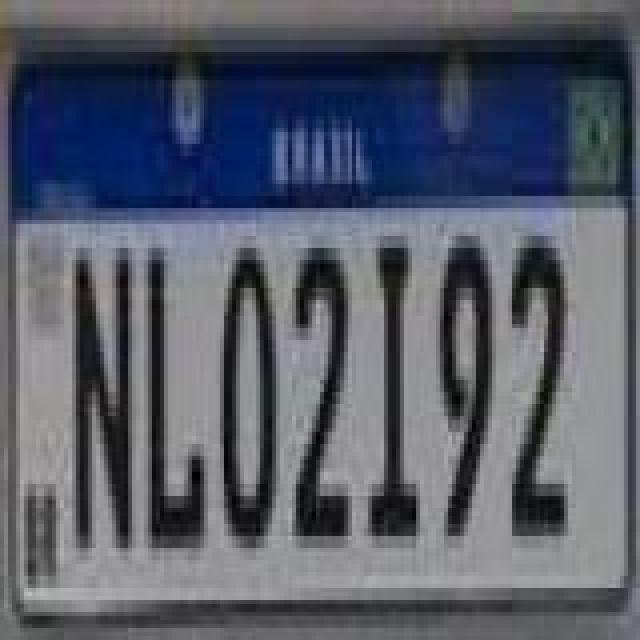2: (508, 226, 572, 542), (290, 242, 350, 542)
9: (434, 234, 494, 534)
D: (216, 234, 280, 550)
I: (368, 234, 424, 550)
L: (146, 250, 206, 550)
N: (72, 250, 136, 550)
